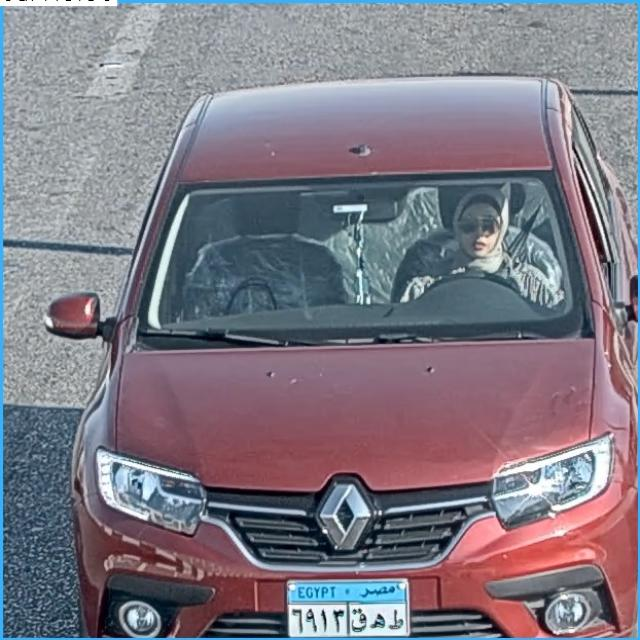windshield: (141, 177, 584, 345)
